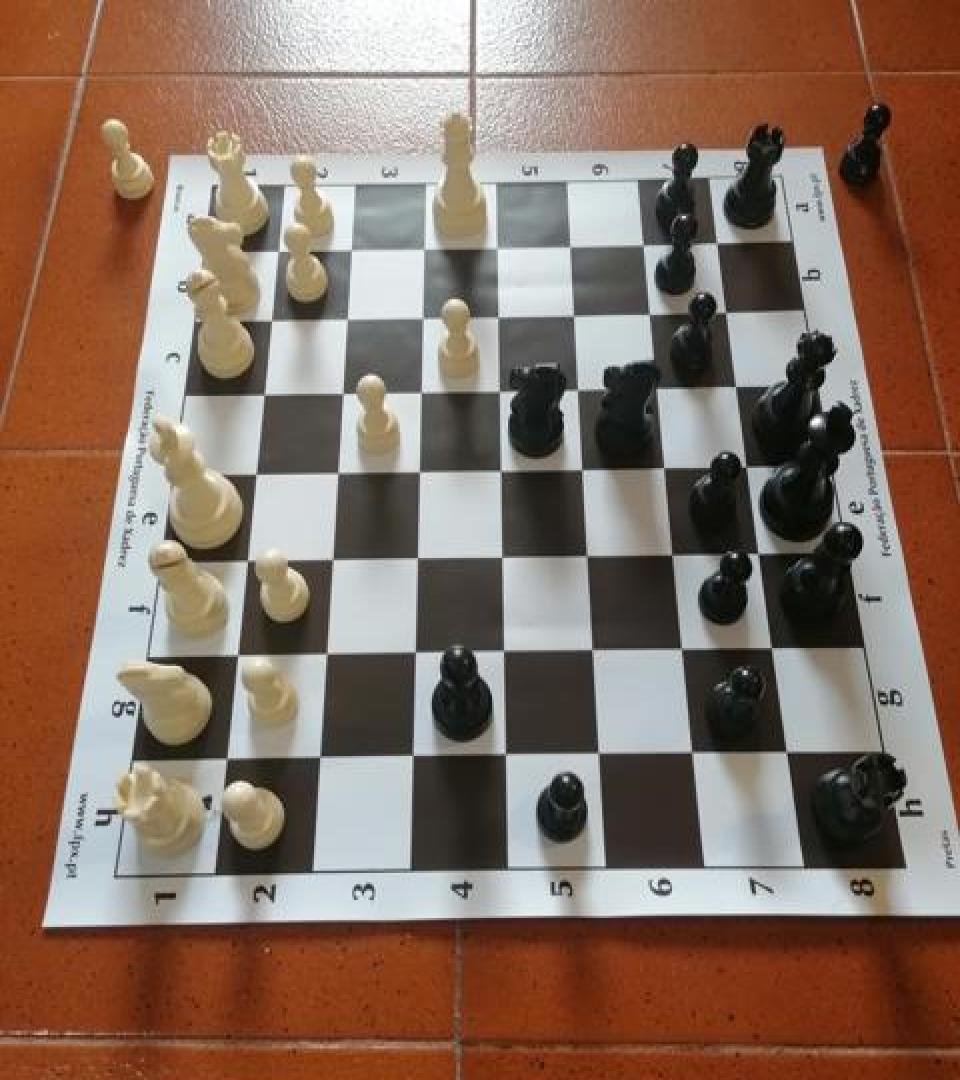xcorner: (713, 291, 747, 330), (402, 371, 436, 410), (703, 222, 737, 260), (628, 223, 662, 261), (553, 224, 587, 262), (479, 225, 513, 263), (404, 226, 438, 264), (330, 228, 364, 266), (255, 228, 289, 266), (635, 292, 669, 330), (558, 294, 592, 332), (480, 295, 514, 333), (403, 296, 437, 334), (326, 297, 360, 335), (249, 298, 283, 336), (724, 367, 758, 405), (643, 368, 677, 406), (562, 369, 596, 407), (482, 370, 516, 408), (322, 372, 356, 410), (242, 372, 276, 410), (735, 449, 769, 487), (651, 449, 685, 487), (567, 450, 601, 488), (484, 451, 518, 489), (400, 452, 434, 490), (317, 454, 351, 492), (234, 454, 268, 492), (747, 537, 781, 575), (660, 538, 694, 576), (573, 538, 607, 576), (486, 539, 520, 577), (399, 540, 433, 578), (312, 541, 346, 579), (226, 541, 260, 579), (761, 632, 795, 670), (669, 632, 703, 670), (578, 634, 612, 672), (488, 634, 522, 672), (397, 634, 431, 672), (307, 636, 341, 674), (217, 637, 251, 675), (775, 736, 809, 774), (680, 737, 714, 775), (585, 738, 619, 776), (490, 738, 524, 776), (395, 739, 429, 777), (301, 739, 335, 777), (207, 740, 241, 778)
